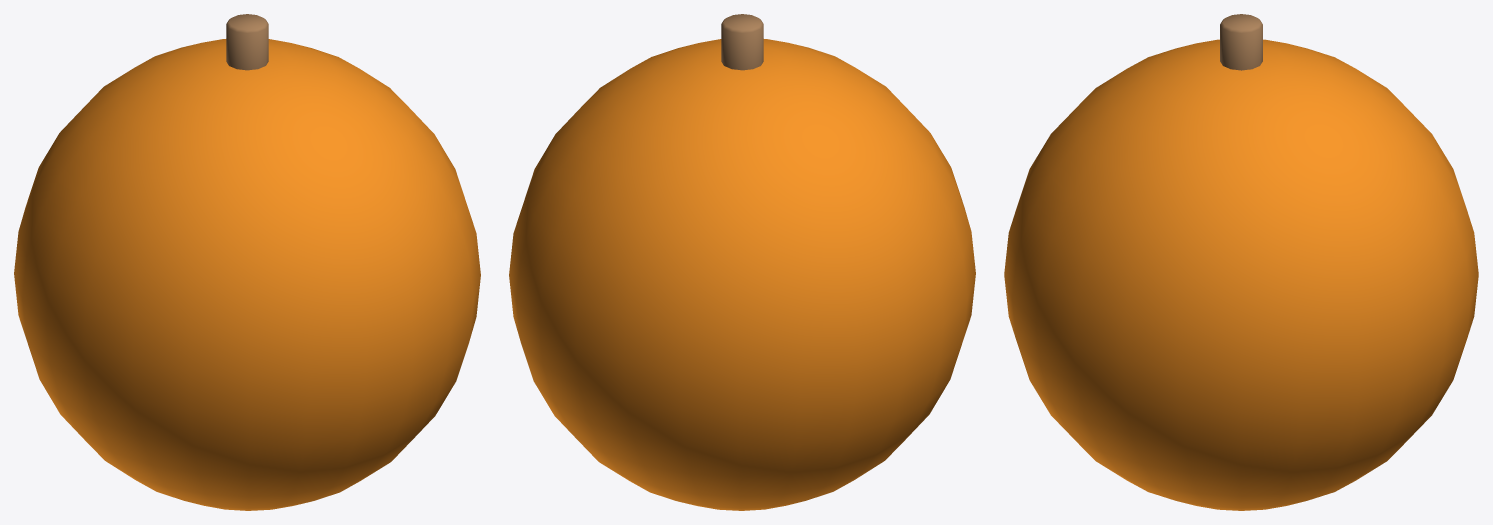
File: SM_EG_Fruit_orange_Stemmed_cfdaf3c28d.fbx
3 views of the same model, side by side, from view 1: azimuth 30°, elevation 25°; view 2: azimuth 150°, elevation 25°; view 3: azimuth 270°, elevation 25° (orthographic).
Parts seen in each view (by area): view 1: SM_EG_Fruit_orange_Stemmed_cfdaf3c28d; view 2: SM_EG_Fruit_orange_Stemmed_cfdaf3c28d; view 3: SM_EG_Fruit_orange_Stemmed_cfdaf3c28d.
Part boxes in pixels (x1,y1,x2,y2): SM_EG_Fruit_orange_Stemmed_cfdaf3c28d: (14, 14, 480, 510); SM_EG_Fruit_orange_Stemmed_cfdaf3c28d: (509, 14, 975, 510); SM_EG_Fruit_orange_Stemmed_cfdaf3c28d: (1004, 14, 1478, 510).
Size of what is drawn, in the model's own units: 19.6 by 20 by 21.75.
